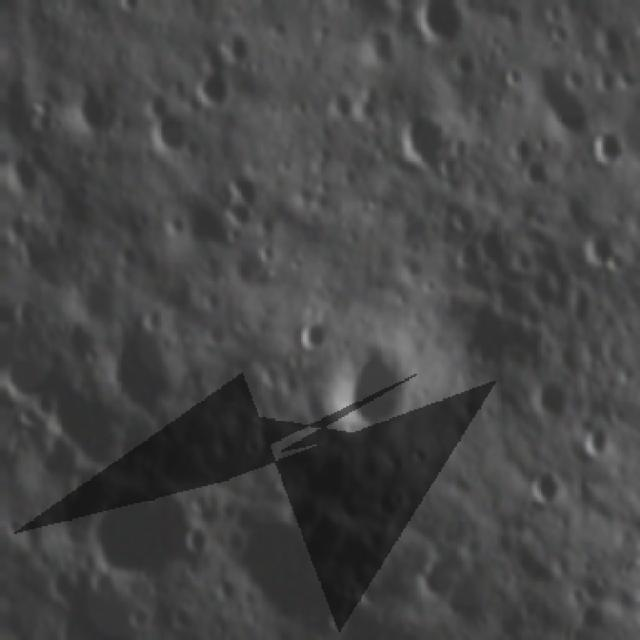crater: (69, 480, 200, 591), (304, 334, 408, 440), (99, 323, 183, 422), (518, 59, 588, 150), (386, 107, 456, 179), (208, 160, 264, 245), (62, 268, 126, 338), (62, 84, 124, 148), (137, 109, 197, 158), (506, 148, 556, 203), (580, 125, 629, 181), (407, 0, 464, 48), (272, 485, 321, 540), (512, 463, 568, 509), (569, 223, 616, 275), (524, 375, 567, 430), (186, 68, 234, 115), (346, 26, 394, 71), (288, 309, 322, 356), (346, 0, 410, 15), (0, 38, 6, 70), (638, 293, 640, 341)
